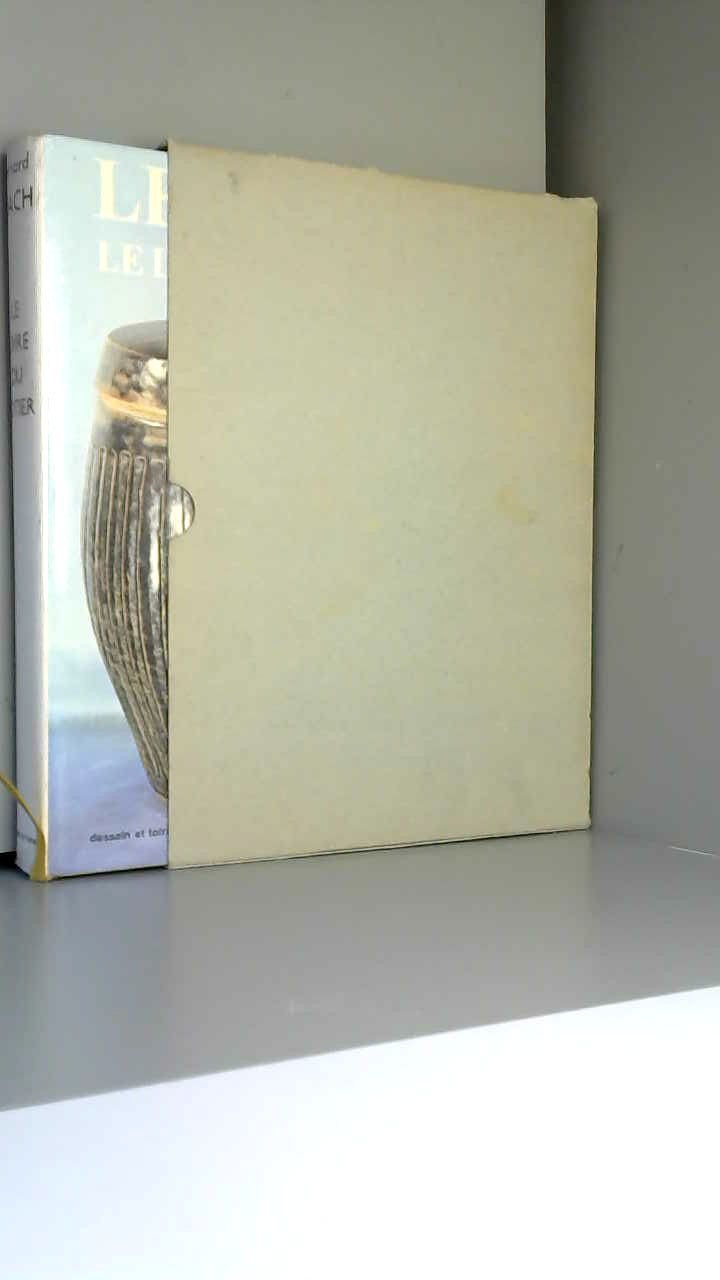book: (0, 95, 642, 916)
